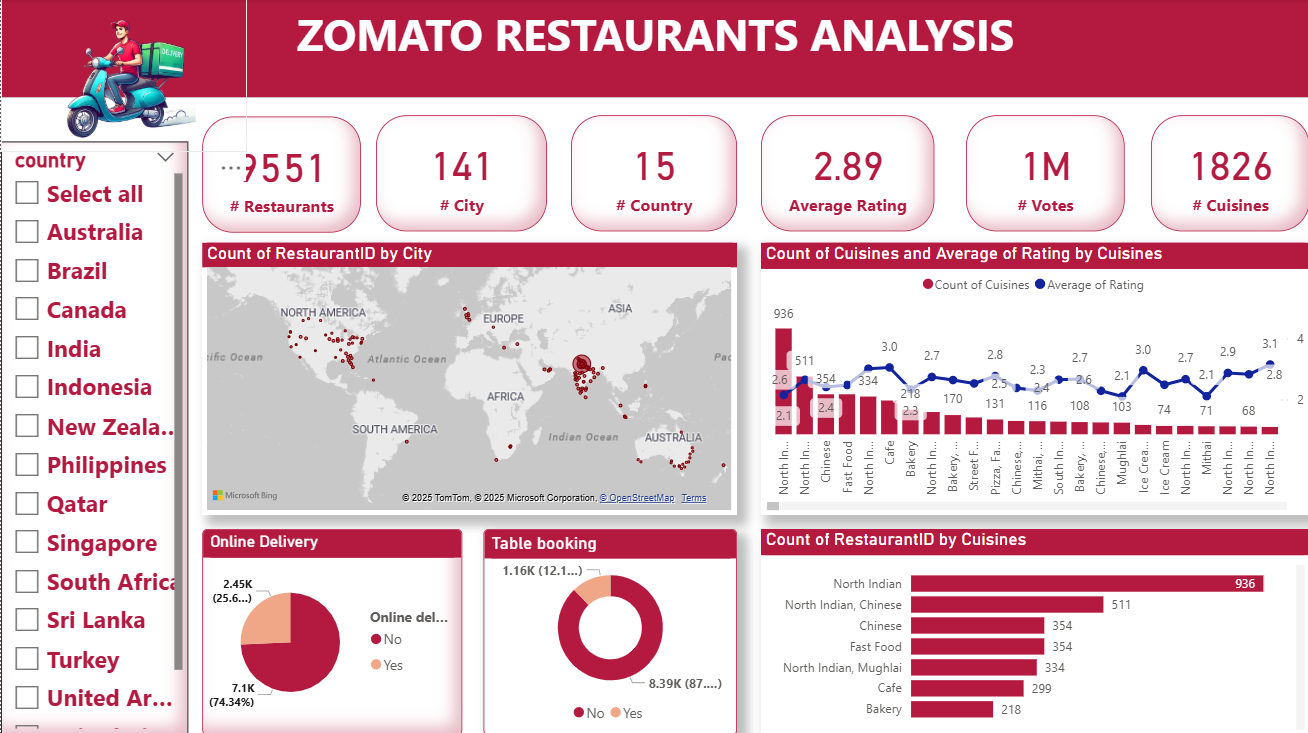

This screenshot's page, from the dashboard's own definition file:
{"tool":"powerbi","page":{"name":"Page 1","canvas":[1280,720],"ordinal":0},"visuals":[{"type":"shape","box":[0,0,1280.3,96.1],"z":0},{"type":"textbox","box":[0,0,1280.3,96.1],"z":1000},{"type":"card","fields":{"Values":["CountNonNull(Restaurent.RestaurantID)"]},"box":[196.9,114.9,155.3,113.7],"z":2000},{"type":"card","fields":{"Values":["Count(Restaurent.City)"]},"box":[366.8,113.7,167.5,113.7],"z":3000},{"type":"card","fields":{"Values":["Count(Restaurent.CountryCode)"]},"box":[557.6,113.7,162.6,113.7],"z":4000},{"type":"card","fields":{"Values":["Avg(Restaurent.Rating)"]},"box":[743.5,113.7,170,113.7],"z":5000},{"type":"card","fields":{"Values":["Sum(Restaurent.Votes)"]},"box":[944,113.7,155.3,113.7],"z":6000},{"type":"card","fields":{"Values":["Count(Restaurent.Cuisines)"]},"box":[1125,113.7,155.3,113.7],"z":7000},{"type":"slicer","fields":{"Values":["countries.country name"]},"box":[0,139.4,183.4,580.8],"z":8000},{"type":"lineStackedColumnComboChart","fields":{"Category":["Restaurent.Cuisines"],"Y":["CountNonNull(Restaurent.Cuisines)"],"Y2":["Avg(Restaurent.Rating)"]},"box":[743.5,238.5,536.8,266.6],"z":9000},{"type":"map","fields":{"Category":["Restaurent.City"],"Size":["CountNonNull(Restaurent.RestaurantID)"]},"box":[196.9,238.5,523.4,266.6],"z":10000},{"type":"clusteredBarChart","fields":{"Category":["Restaurent.Cuisines"],"Y":["CountNonNull(Restaurent.RestaurantID)"]},"box":[743.5,518.5,536.8,201.8],"z":11000},{"type":"pieChart","title":"Online Delivery ","fields":{"Category":["Restaurent.Has_Online_delivery"],"Y":["CountNonNull(Restaurent.RestaurantID)"]},"box":[196.9,518.5,254.3,201.8],"z":12000},{"type":"donutChart","title":"Table booking","fields":{"Category":["Restaurent.Has_Table_booking"],"Y":["CountNonNull(Restaurent.RestaurantID)"]},"box":[472,518.5,248.2,201.8],"z":13000},{"type":"image","box":[0,0,240.9,149.2],"z":13001}]}

Visuals, with their boxes in screenshot pixels (x1, y1, x2, y2), scaled from the page's 1280x720 canvas onto the 1308x733 screenshot:
shape: (x1=0, y1=0, x2=1307, y2=98)
textbox: (x1=0, y1=0, x2=1307, y2=98)
card - CountNonNull(Restaurent.RestaurantID): (x1=201, y1=117, x2=360, y2=233)
card - Count(Restaurent.City): (x1=375, y1=116, x2=546, y2=232)
card - Count(Restaurent.CountryCode): (x1=570, y1=116, x2=736, y2=232)
card - Avg(Restaurent.Rating): (x1=760, y1=116, x2=933, y2=232)
card - Sum(Restaurent.Votes): (x1=965, y1=116, x2=1123, y2=232)
card - Count(Restaurent.Cuisines): (x1=1150, y1=116, x2=1307, y2=232)
slicer - countries.country name: (x1=0, y1=142, x2=187, y2=732)
lineStackedColumnComboChart - Restaurent.Cuisines x CountNonNull(Restaurent.Cuisines): (x1=760, y1=243, x2=1307, y2=514)
map - Restaurent.City x CountNonNull(Restaurent.RestaurantID): (x1=201, y1=243, x2=736, y2=514)
clusteredBarChart - Restaurent.Cuisines x CountNonNull(Restaurent.RestaurantID): (x1=760, y1=528, x2=1307, y2=732)
"Online Delivery " pieChart: (x1=201, y1=528, x2=461, y2=732)
"Table booking" donutChart: (x1=482, y1=528, x2=736, y2=732)
image: (x1=0, y1=0, x2=246, y2=152)
